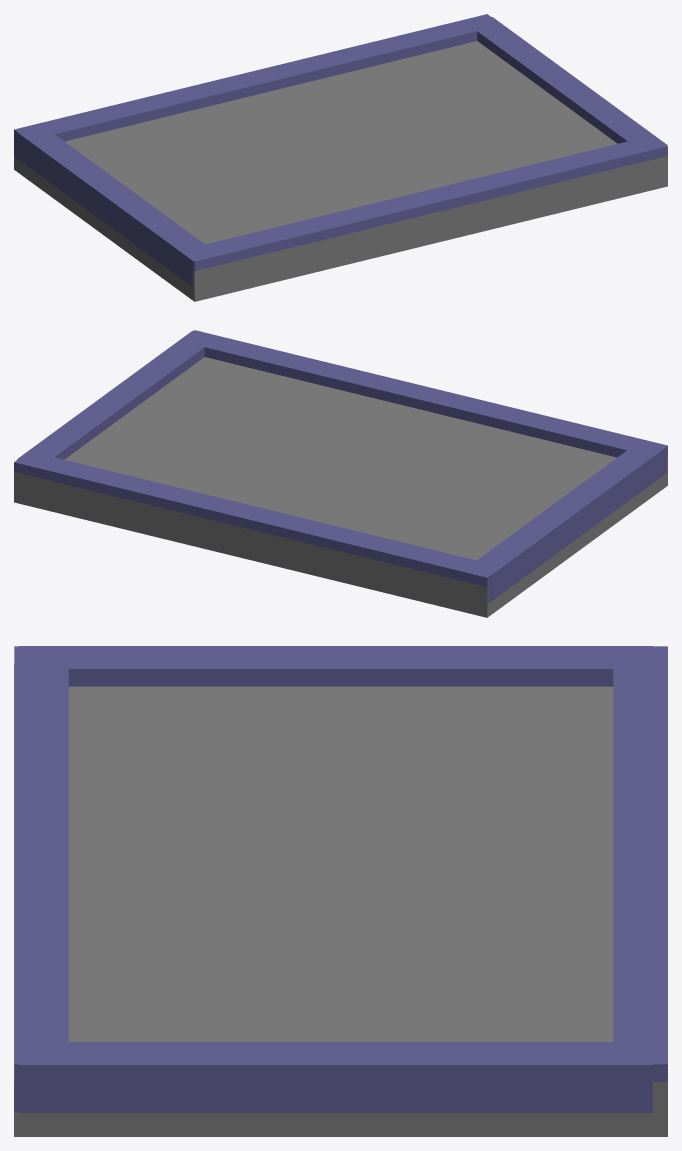
The model's file is Datapad.fbx.
The picture shows the model from 3 angles, top to bottom: view 1: azimuth 30°, elevation 25°; view 2: azimuth 150°, elevation 25°; view 3: azimuth 270°, elevation 25°; orthographic projection. The views are drawn at different scales.
Parts seen in each view (by area): view 1: PM3D_Plane3D219_004; view 2: PM3D_Plane3D219_004; view 3: PM3D_Plane3D219_004.
Part boxes in pixels (bbox=[...]): PM3D_Plane3D219_004: bbox=[14, 14, 667, 301]; PM3D_Plane3D219_004: bbox=[14, 330, 667, 617]; PM3D_Plane3D219_004: bbox=[14, 646, 667, 1136].
Size of the model in its own units: 35.8 by 2.89 by 23.61.
